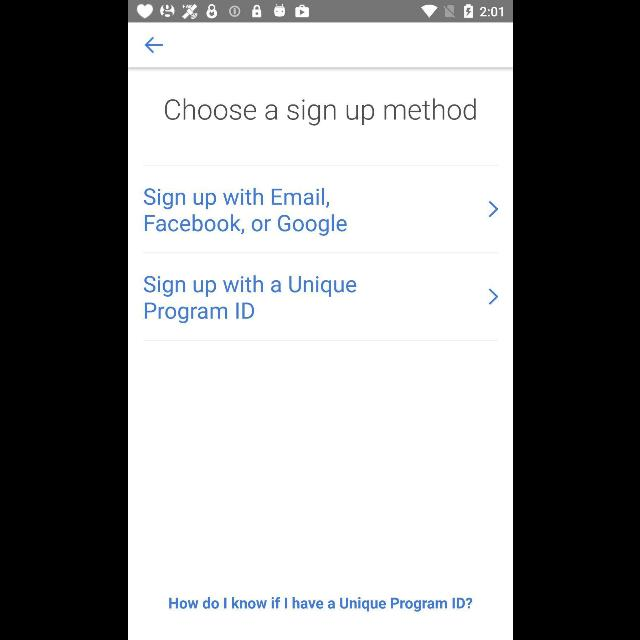icon: (144, 37, 162, 53), (488, 201, 498, 217), (488, 289, 498, 305)
text: (142, 275, 356, 323), (142, 188, 346, 236), (163, 98, 474, 125), (168, 598, 472, 612)
toolbar: (128, 23, 512, 68)
uppertaskbar: (128, 1, 512, 23)
